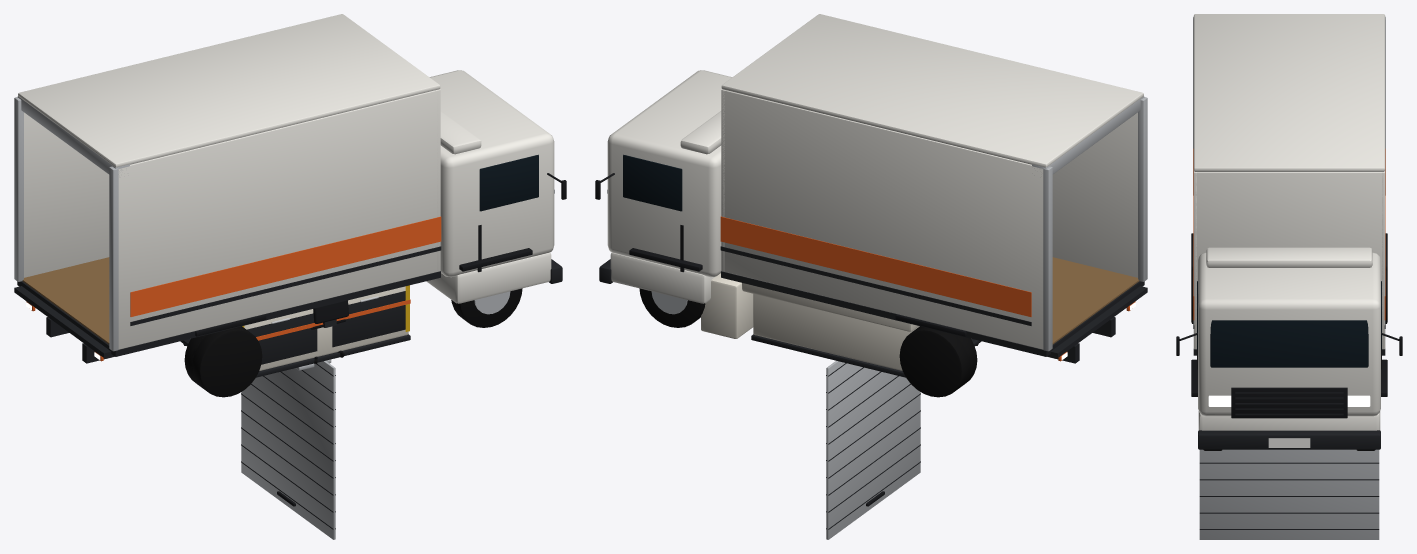
Rendered from process_kit.glb.
3 renders of one model, left to right at view 1: azimuth 30°, elevation 25°; view 2: azimuth 150°, elevation 25°; view 3: azimuth 270°, elevation 25°, orthographic. The views are drawn at different scales.
Parts seen in each view (by area): view 1: delivery_truck, truck_door, laser_cutter, design_desk; view 2: delivery_truck, truck_door, laser_cutter; view 3: delivery_truck, truck_door.
Boxes of the visible parts, left/top/right/bottom form: delivery_truck: left=14, top=14, right=566, bottom=397; truck_door: left=241, top=360, right=335, bottom=539; laser_cutter: left=242, top=285, right=410, bottom=377; design_desk: left=311, top=300, right=348, bottom=363; delivery_truck: left=595, top=14, right=1147, bottom=397; truck_door: left=826, top=360, right=920, bottom=539; laser_cutter: left=701, top=273, right=919, bottom=377; delivery_truck: left=1176, top=14, right=1402, bottom=450; truck_door: left=1199, top=449, right=1379, bottom=539.
Bounding box in the file's own units: 6.19 × 5.58 × 2.72.
